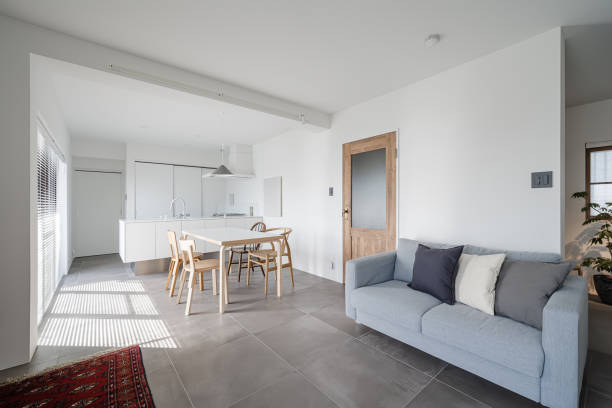dining table set: (163, 221, 296, 318)
large plant: (570, 186, 612, 303)
sofa: (342, 234, 593, 408)
